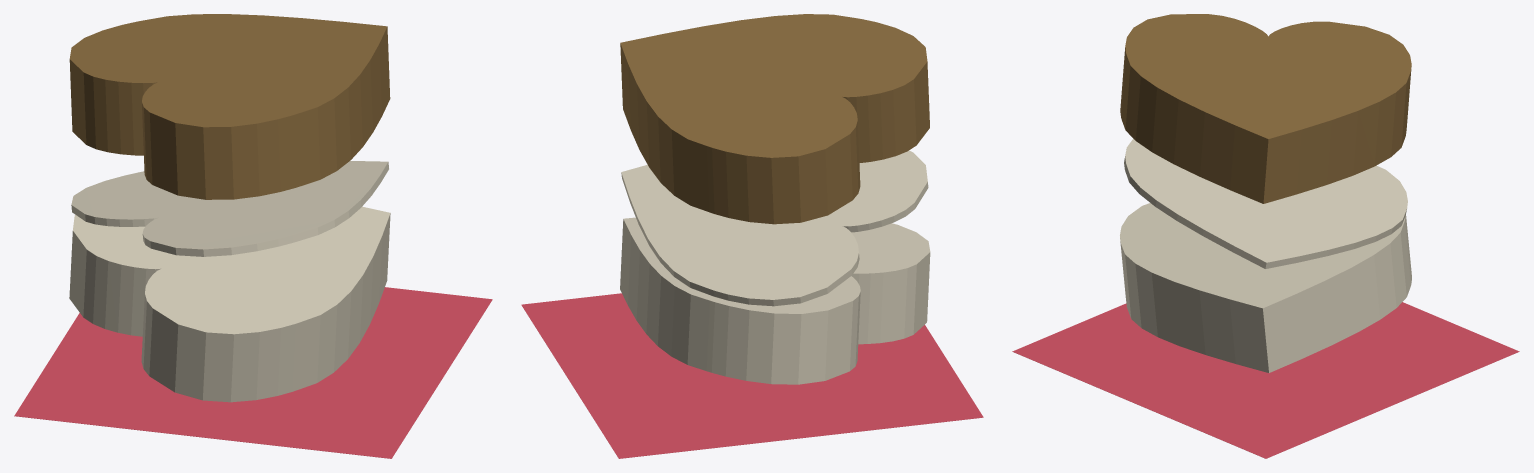
The model's file is VVC.glb.
The picture shows the model from 3 angles, left to right: view 1: azimuth 30°, elevation 25°; view 2: azimuth 150°, elevation 25°; view 3: azimuth 270°, elevation 25°; orthographic projection. The views are drawn at different scales.
Parts seen in each view (by area): view 1: Mesh_Mesh_head_geo.001_lambert2SG.001; view 2: Mesh_Mesh_head_geo.001_lambert2SG.001; view 3: Mesh_Mesh_head_geo.001_lambert2SG.001.
Part boxes in pixels (x1=…): Mesh_Mesh_head_geo.001_lambert2SG.001: x1=14, y1=14, x2=492, y2=458; Mesh_Mesh_head_geo.001_lambert2SG.001: x1=521, y1=14, x2=983, y2=458; Mesh_Mesh_head_geo.001_lambert2SG.001: x1=1012, y1=14, x2=1519, y2=458.
Bounding box in the file's own units: 0.0354 × 0.0217 × 0.0354.
